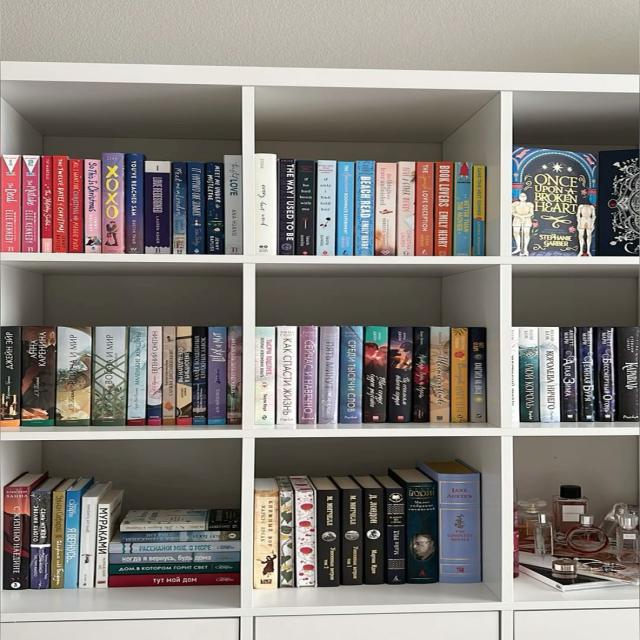book: (439, 473, 481, 583), (91, 326, 128, 425), (20, 326, 56, 426), (56, 326, 91, 426), (407, 483, 438, 584), (4, 487, 30, 589), (254, 489, 279, 588), (144, 160, 170, 254), (338, 326, 362, 424), (363, 326, 387, 423), (388, 327, 412, 423), (101, 154, 124, 253), (255, 154, 277, 255), (616, 327, 639, 421), (317, 490, 339, 587), (363, 488, 385, 585), (0, 327, 21, 428), (340, 489, 362, 585), (254, 327, 275, 426), (317, 326, 338, 425), (276, 327, 297, 425), (0, 155, 21, 252), (316, 161, 337, 256), (354, 161, 375, 256), (429, 328, 450, 423), (295, 161, 316, 255), (595, 327, 616, 421), (297, 326, 317, 424), (375, 162, 396, 255), (30, 491, 50, 588), (539, 327, 559, 423), (410, 327, 430, 422), (386, 489, 406, 584), (125, 154, 144, 253), (519, 328, 539, 422), (127, 326, 146, 424), (296, 491, 315, 588), (204, 162, 224, 254), (207, 328, 226, 424), (277, 159, 296, 254), (396, 162, 415, 256), (415, 162, 434, 256), (577, 327, 596, 421), (224, 155, 242, 254), (21, 156, 39, 252), (51, 156, 69, 252), (450, 328, 468, 423), (560, 327, 578, 422), (83, 159, 101, 253), (336, 162, 354, 255), (453, 162, 470, 256), (175, 326, 191, 425), (469, 328, 485, 423), (434, 162, 450, 256), (187, 162, 203, 254), (147, 328, 162, 425), (226, 327, 241, 424), (192, 328, 207, 424), (110, 574, 238, 585), (162, 326, 176, 425), (280, 491, 294, 587), (69, 160, 83, 253), (172, 162, 186, 253), (66, 491, 79, 588), (472, 165, 486, 255), (80, 496, 93, 588), (52, 491, 64, 589), (40, 157, 52, 252), (110, 564, 243, 572), (110, 552, 240, 560), (109, 543, 239, 551), (121, 532, 239, 540), (510, 328, 519, 424), (98, 504, 108, 588), (122, 523, 237, 530)
